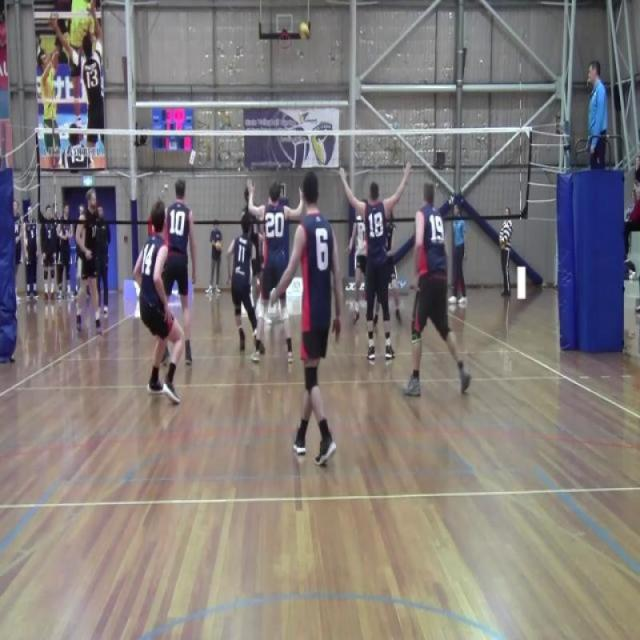volleyball: (298, 20, 311, 44), (215, 239, 222, 253)
